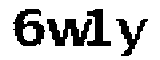1: (89, 6, 114, 51)
6: (10, 5, 45, 49)
w: (44, 16, 90, 49)
y: (115, 15, 152, 60)
